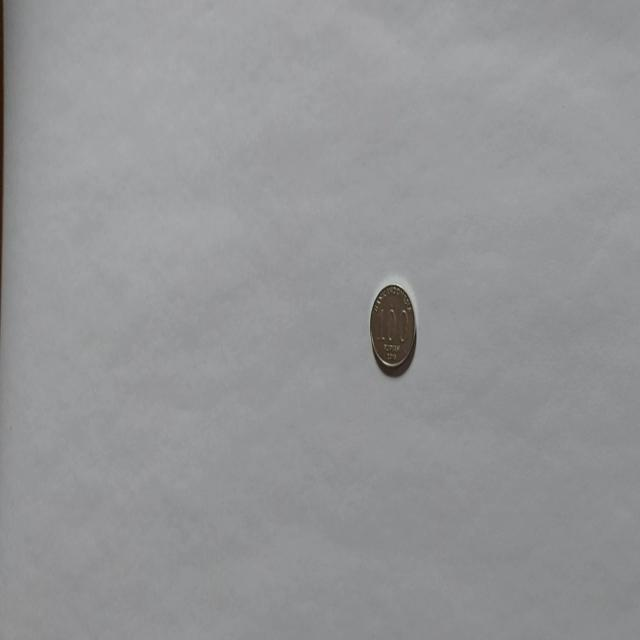seratus rupiah: (368, 282, 416, 376)
